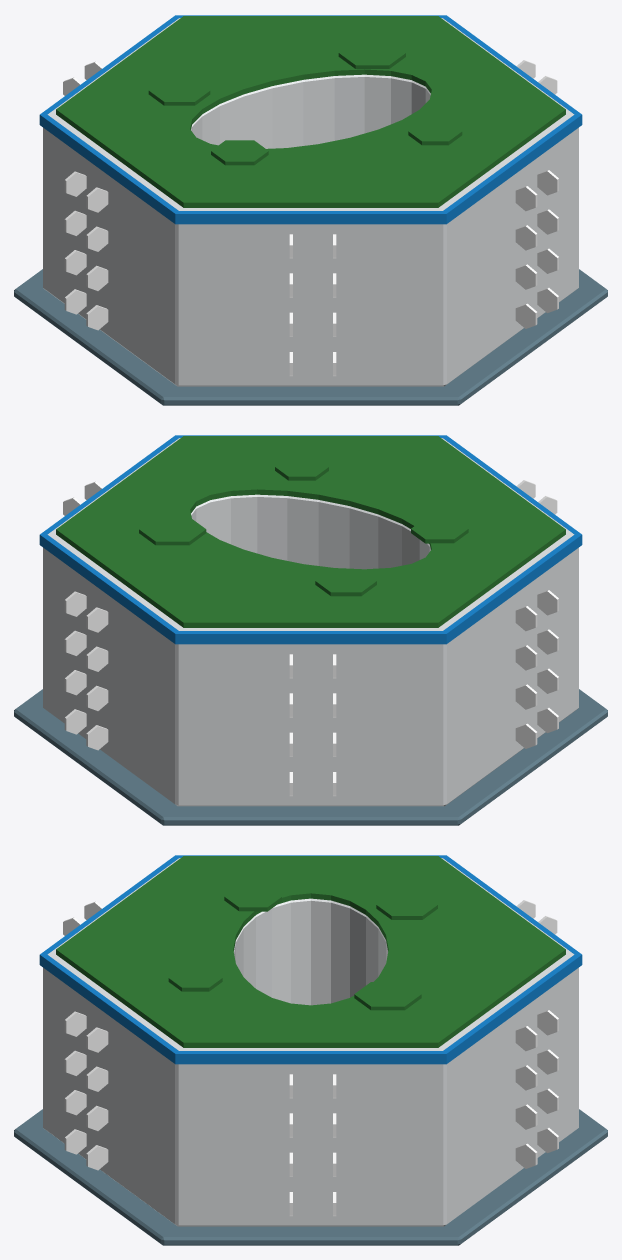
The model's file is nvh_sinh_vien.glb.
3 renders of one model, top to bottom at view 1: azimuth 30°, elevation 25°; view 2: azimuth 150°, elevation 25°; view 3: azimuth 270°, elevation 25°, orthographic.
Parts seen in each view (by area): view 1: NVHSV_MainStructure, NVHSV_RoofPark, NVHSV_GroundPlaza, NVHSV_FactionRing, NVHSV_GardenPad_0, NVHSV_GardenPad_3, NVHSV_GardenPad_1, NVHSV_GardenPad_2; view 2: NVHSV_MainStructure, NVHSV_RoofPark, NVHSV_GroundPlaza, NVHSV_FactionRing, NVHSV_GardenPad_0, NVHSV_GardenPad_3, NVHSV_GardenPad_1, NVHSV_GardenPad_2; view 3: NVHSV_MainStructure, NVHSV_RoofPark, NVHSV_GroundPlaza, NVHSV_FactionRing, NVHSV_GardenPad_0, NVHSV_GardenPad_3, NVHSV_GardenPad_1, NVHSV_GardenPad_2.
Boxes of the visible parts, x1,y1,x2,y2 form: NVHSV_MainStructure: [43, 18, 578, 386]; NVHSV_RoofPark: [56, 16, 565, 207]; NVHSV_GroundPlaza: [14, 269, 607, 405]; NVHSV_FactionRing: [39, 15, 582, 224]; NVHSV_GardenPad_0: [338, 40, 405, 68]; NVHSV_GardenPad_3: [148, 79, 210, 105]; NVHSV_GardenPad_1: [211, 140, 268, 165]; NVHSV_GardenPad_2: [408, 121, 462, 145]; NVHSV_MainStructure: [43, 438, 578, 806]; NVHSV_RoofPark: [56, 436, 565, 627]; NVHSV_GroundPlaza: [14, 689, 607, 825]; NVHSV_FactionRing: [39, 435, 582, 644]; NVHSV_GardenPad_0: [139, 517, 206, 545]; NVHSV_GardenPad_3: [315, 569, 376, 596]; NVHSV_GardenPad_1: [411, 518, 468, 543]; NVHSV_GardenPad_2: [275, 457, 328, 480]; NVHSV_MainStructure: [43, 858, 578, 1226]; NVHSV_RoofPark: [56, 856, 565, 1047]; NVHSV_GroundPlaza: [14, 1109, 607, 1245]; NVHSV_FactionRing: [39, 855, 582, 1064]; NVHSV_GardenPad_0: [354, 982, 421, 1010]; NVHSV_GardenPad_3: [376, 893, 437, 919]; NVHSV_GardenPad_1: [224, 886, 281, 911]; NVHSV_GardenPad_2: [168, 968, 222, 991].
Size of the model in its own units: 56.54 by 22.05 by 61.75.
